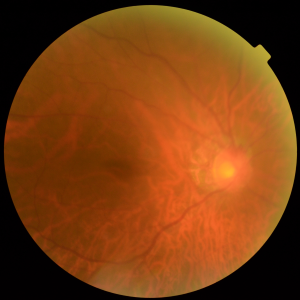cataract: (70, 101, 269, 217)
